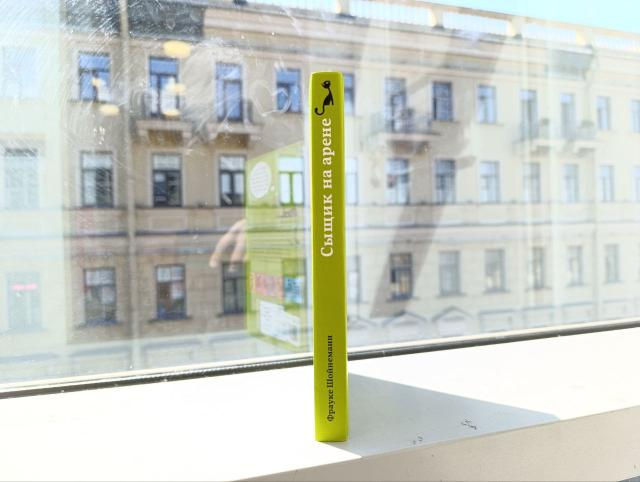book-s-spine: (311, 71, 348, 442)
